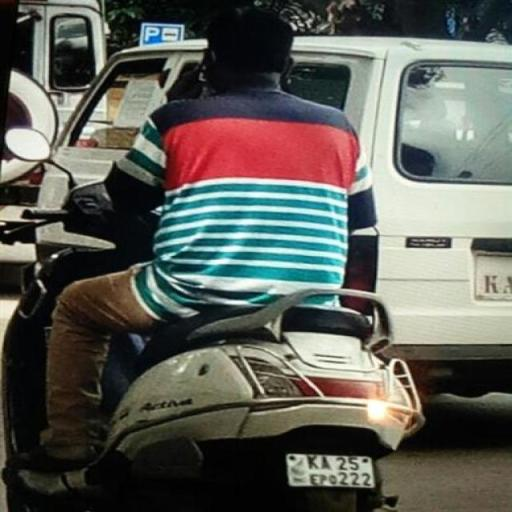using mobile: (186, 46, 224, 96)
